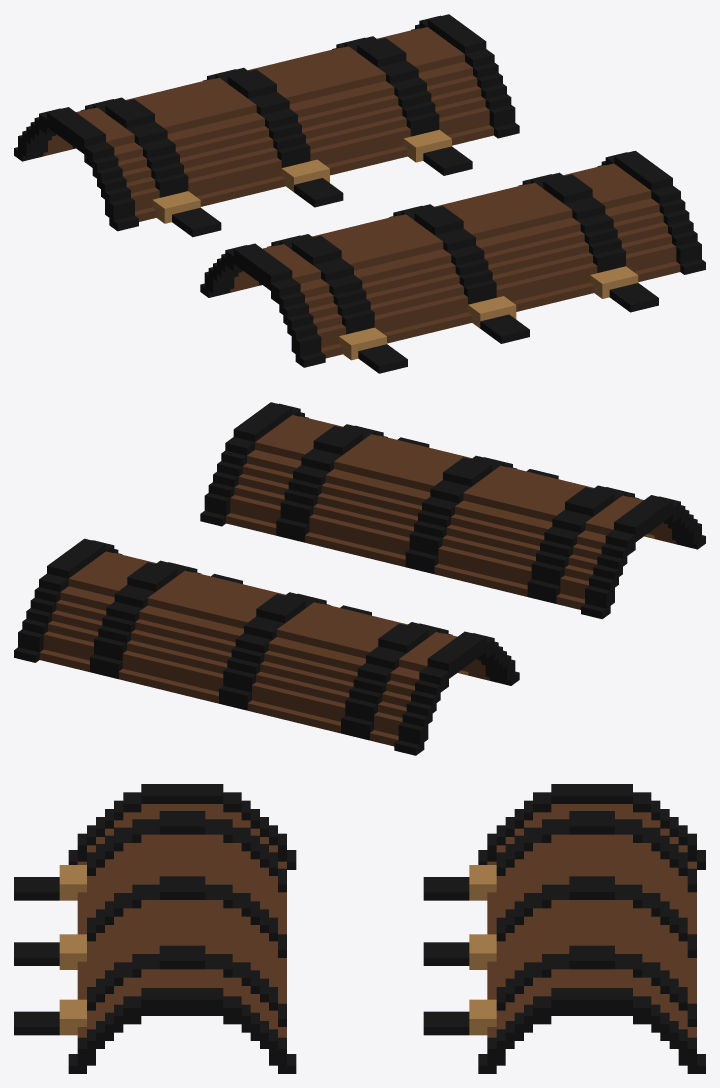
The model's file is vambrace_larmor.glb.
The picture shows the model from 3 angles, top to bottom: view 1: azimuth 30°, elevation 25°; view 2: azimuth 150°, elevation 25°; view 3: azimuth 270°, elevation 25°; orthographic projection. The views are drawn at different scales.
Visible parts, largest first — view 1: vambrace_larmor:compound; view 2: vambrace_larmor:compound; view 3: vambrace_larmor:compound.
Boxes of the visible parts, left/top/right/bottom form: vambrace_larmor:compound: left=14, top=14, right=705, bottom=373; vambrace_larmor:compound: left=14, top=402, right=705, bottom=755; vambrace_larmor:compound: left=14, top=784, right=705, bottom=1073.
Bounding box in the file's own units: 0.224 × 0.036 × 0.304.
